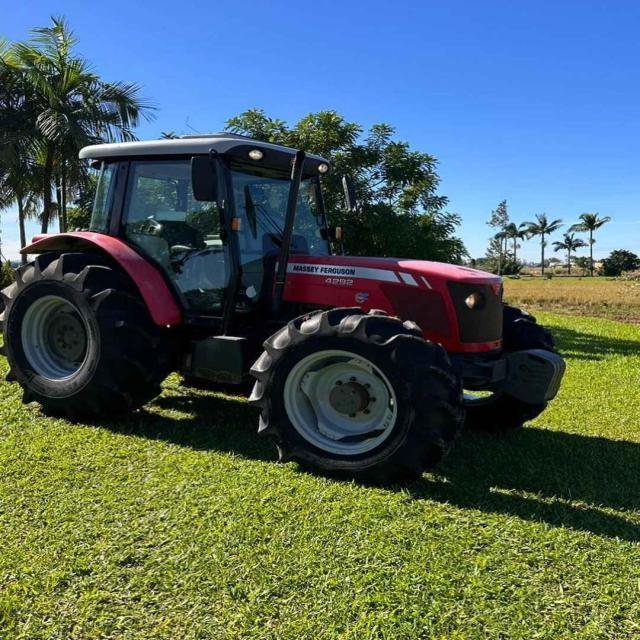Tratores - v5 YOLO V8L 2024-11-13: (4, 135, 560, 488)
